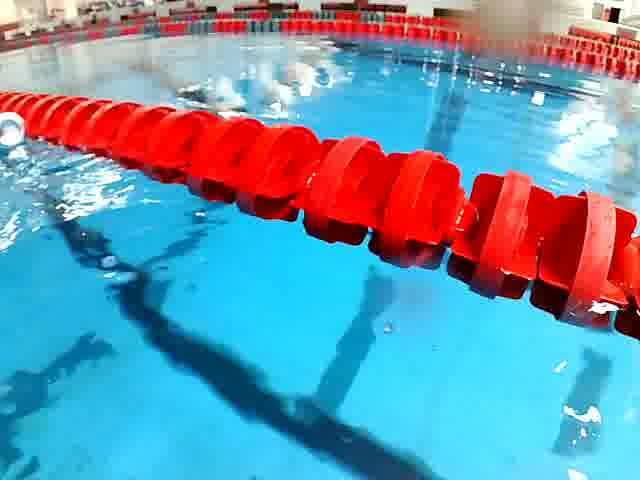Bottle: (0, 110, 38, 148)
